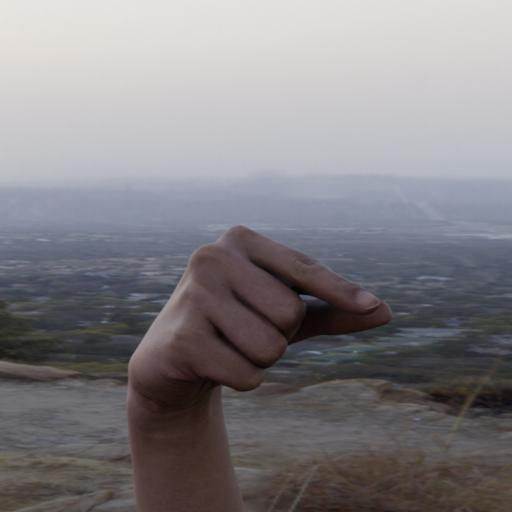G: (114, 214, 404, 423)
